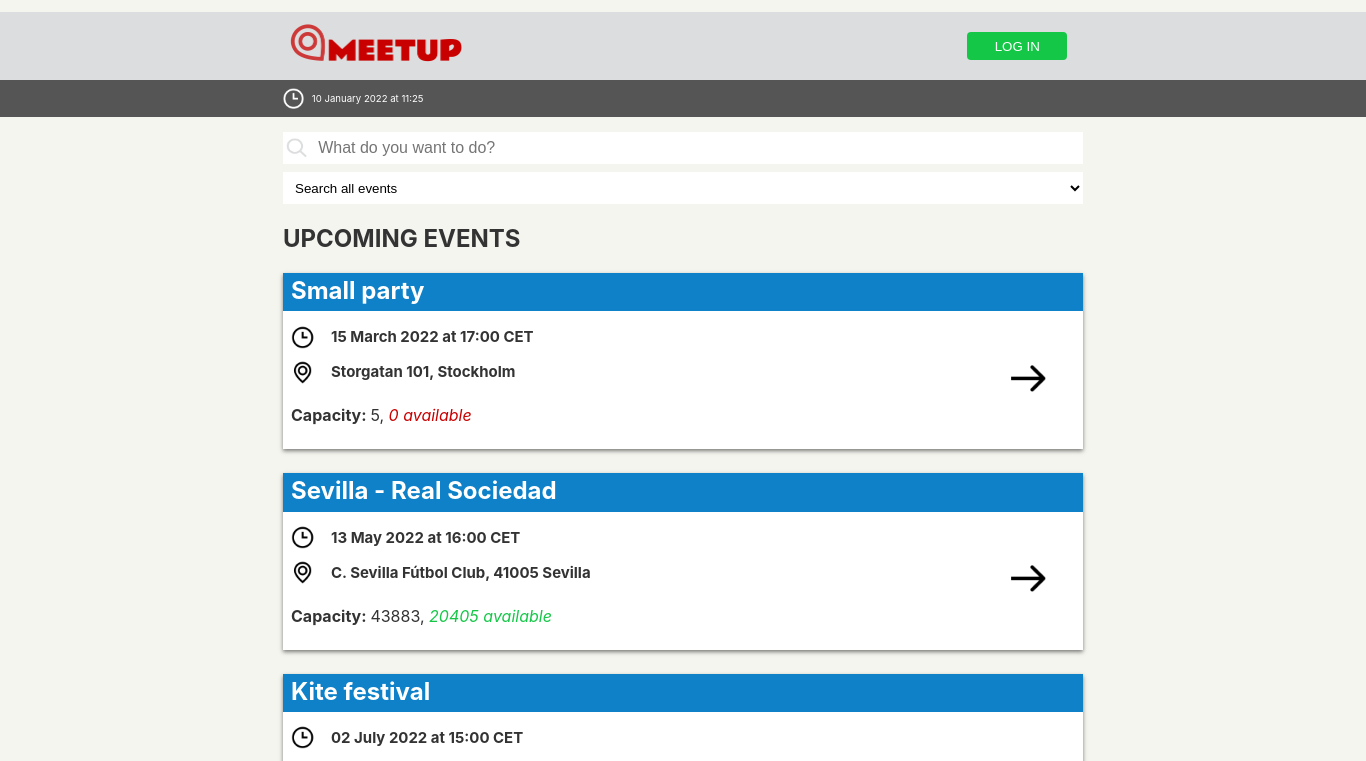
it: App integration tests › renders login view with form when log in button is clicked
Click the button "Log in": (1017, 46) [967,32,1067,60]
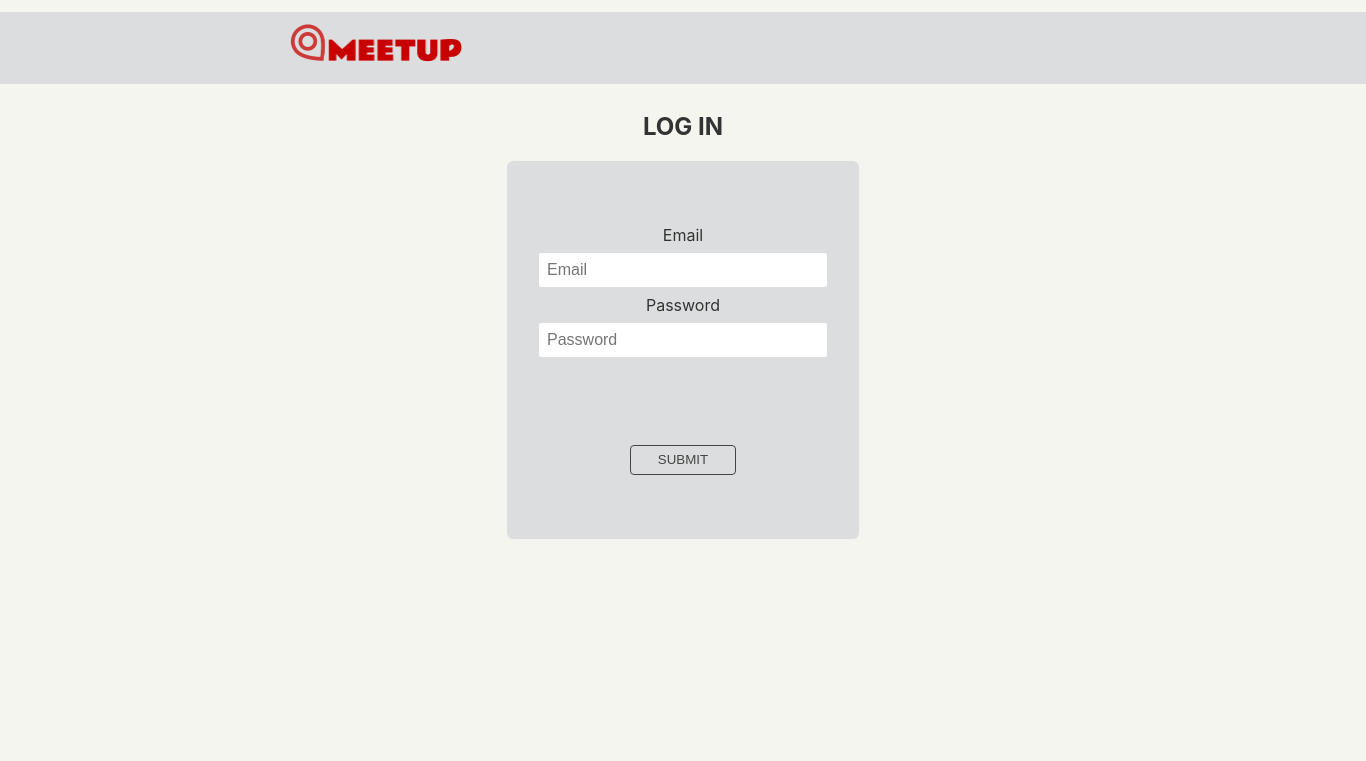
Result: the form is shown at [507,161,859,539]
